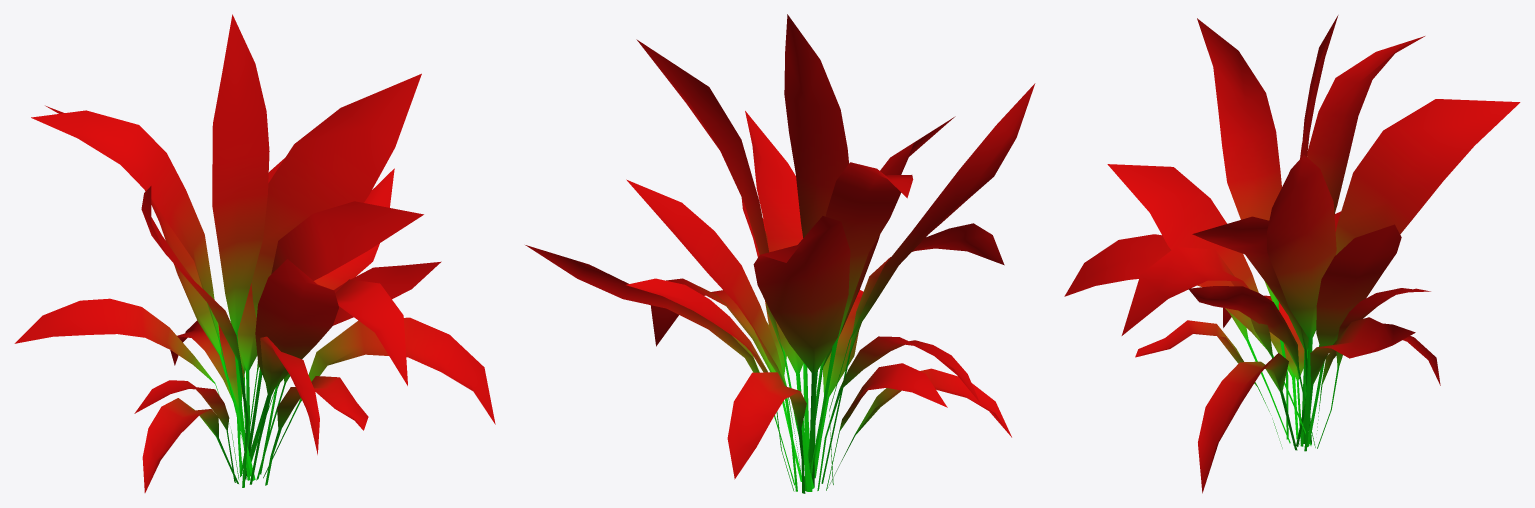
Rendered from Cast - Iron Plant_LOD1_Var4_shdmr.fbx.
3 renders of one model, left to right at view 1: azimuth 30°, elevation 25°; view 2: azimuth 150°, elevation 25°; view 3: azimuth 270°, elevation 25°, orthographic. The views are drawn at different scales.
Visible parts, largest first — view 1: _6e14_Var4_LOD1; view 2: _6e14_Var4_LOD1; view 3: _6e14_Var4_LOD1.
Boxes of the visible parts, box(x1,y1,x2,y2) form: _6e14_Var4_LOD1: box(14, 14, 495, 492); _6e14_Var4_LOD1: box(525, 14, 1035, 493); _6e14_Var4_LOD1: box(1064, 15, 1520, 493).
Size of the model in its own units: 55.64 by 59.89 by 57.22.
